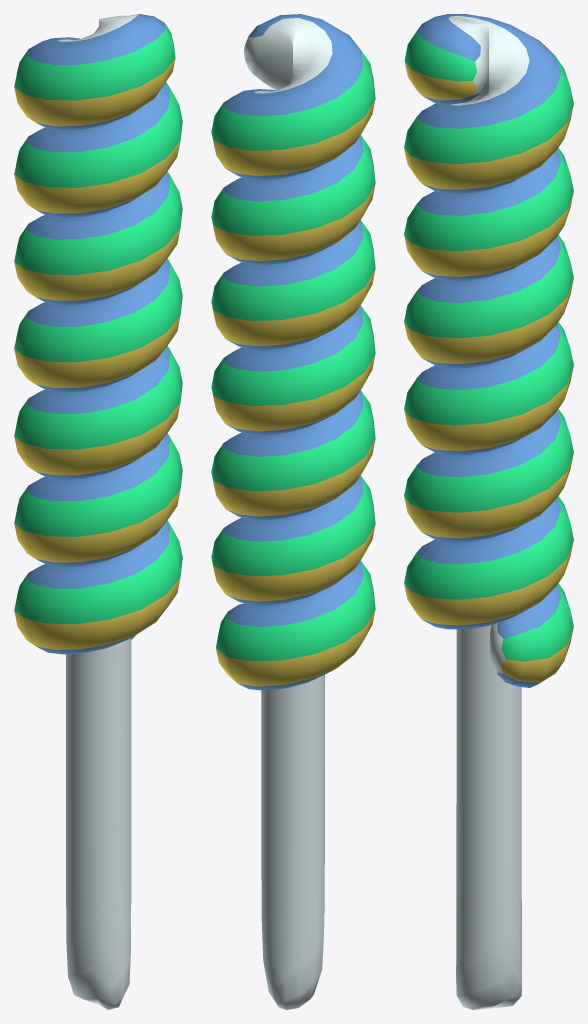
File: Lollipop_D_03.fbx
3 renders of one model, left to right at view 1: azimuth 30°, elevation 25°; view 2: azimuth 150°, elevation 25°; view 3: azimuth 270°, elevation 25°, orthographic. The views are drawn at different scales.
Visible parts, largest first — view 1: Lollipop_D_03_LOD0; view 2: Lollipop_D_03_LOD0; view 3: Lollipop_D_03_LOD0.
Boxes of the visible parts, x1,y1,x2,y2 form: Lollipop_D_03_LOD0: (14,14,182,1009); Lollipop_D_03_LOD0: (211,14,375,1009); Lollipop_D_03_LOD0: (404,14,573,1009).
Size of what is drawn, in the model's own units: 191 by 1231 by 191.
